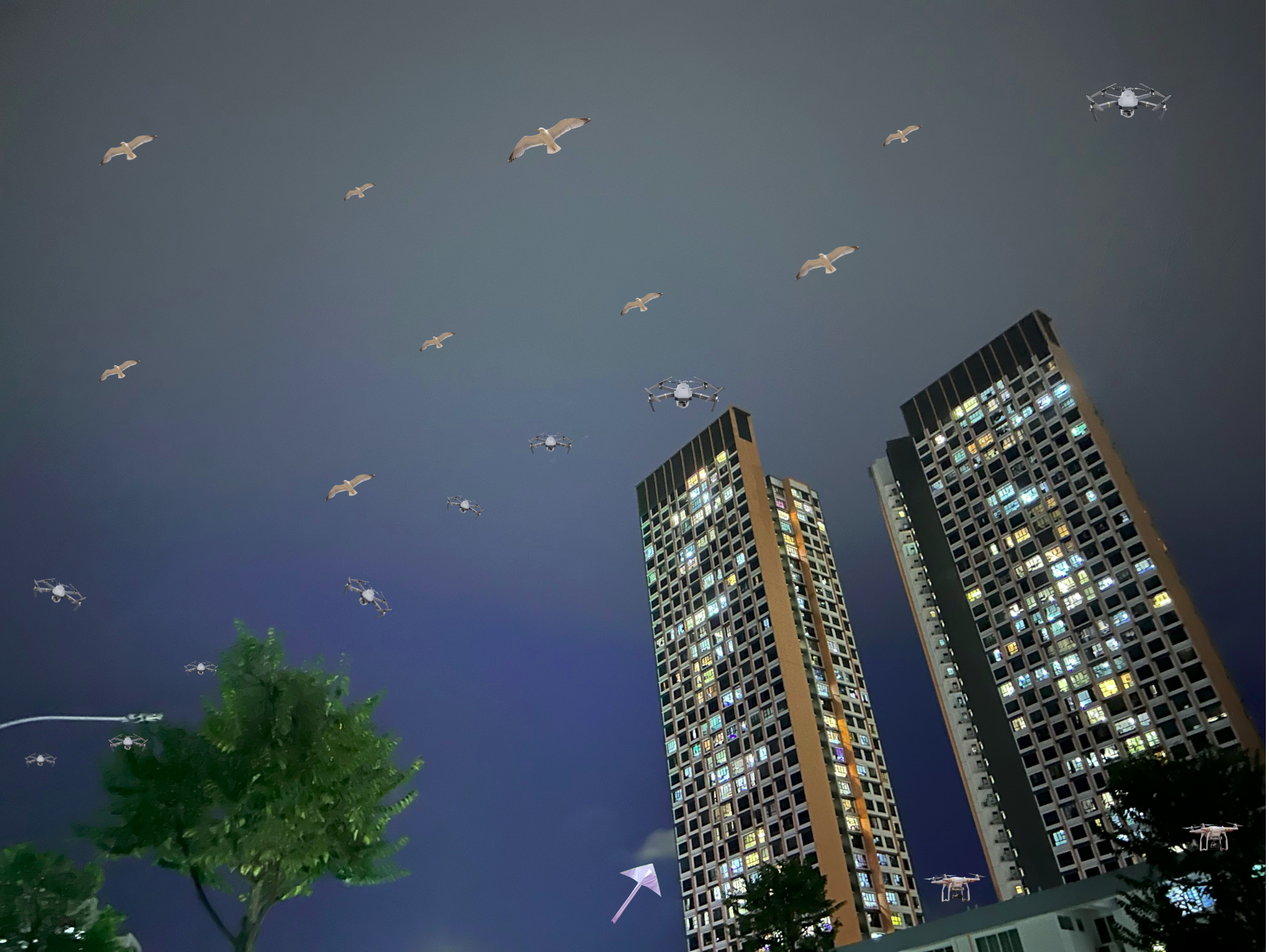drone_other: (1084, 80, 1174, 123), (641, 374, 726, 413), (30, 574, 89, 613), (343, 574, 392, 619), (924, 873, 989, 904), (1182, 820, 1243, 853), (444, 492, 487, 521), (527, 429, 574, 455), (107, 732, 149, 753), (182, 656, 220, 678), (23, 751, 58, 768)
